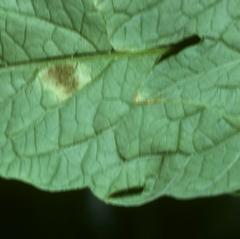Tomato mold leaf: (0, 0, 240, 208), (6, 0, 240, 148)
